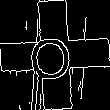O_N: (32, 28, 78, 82)
